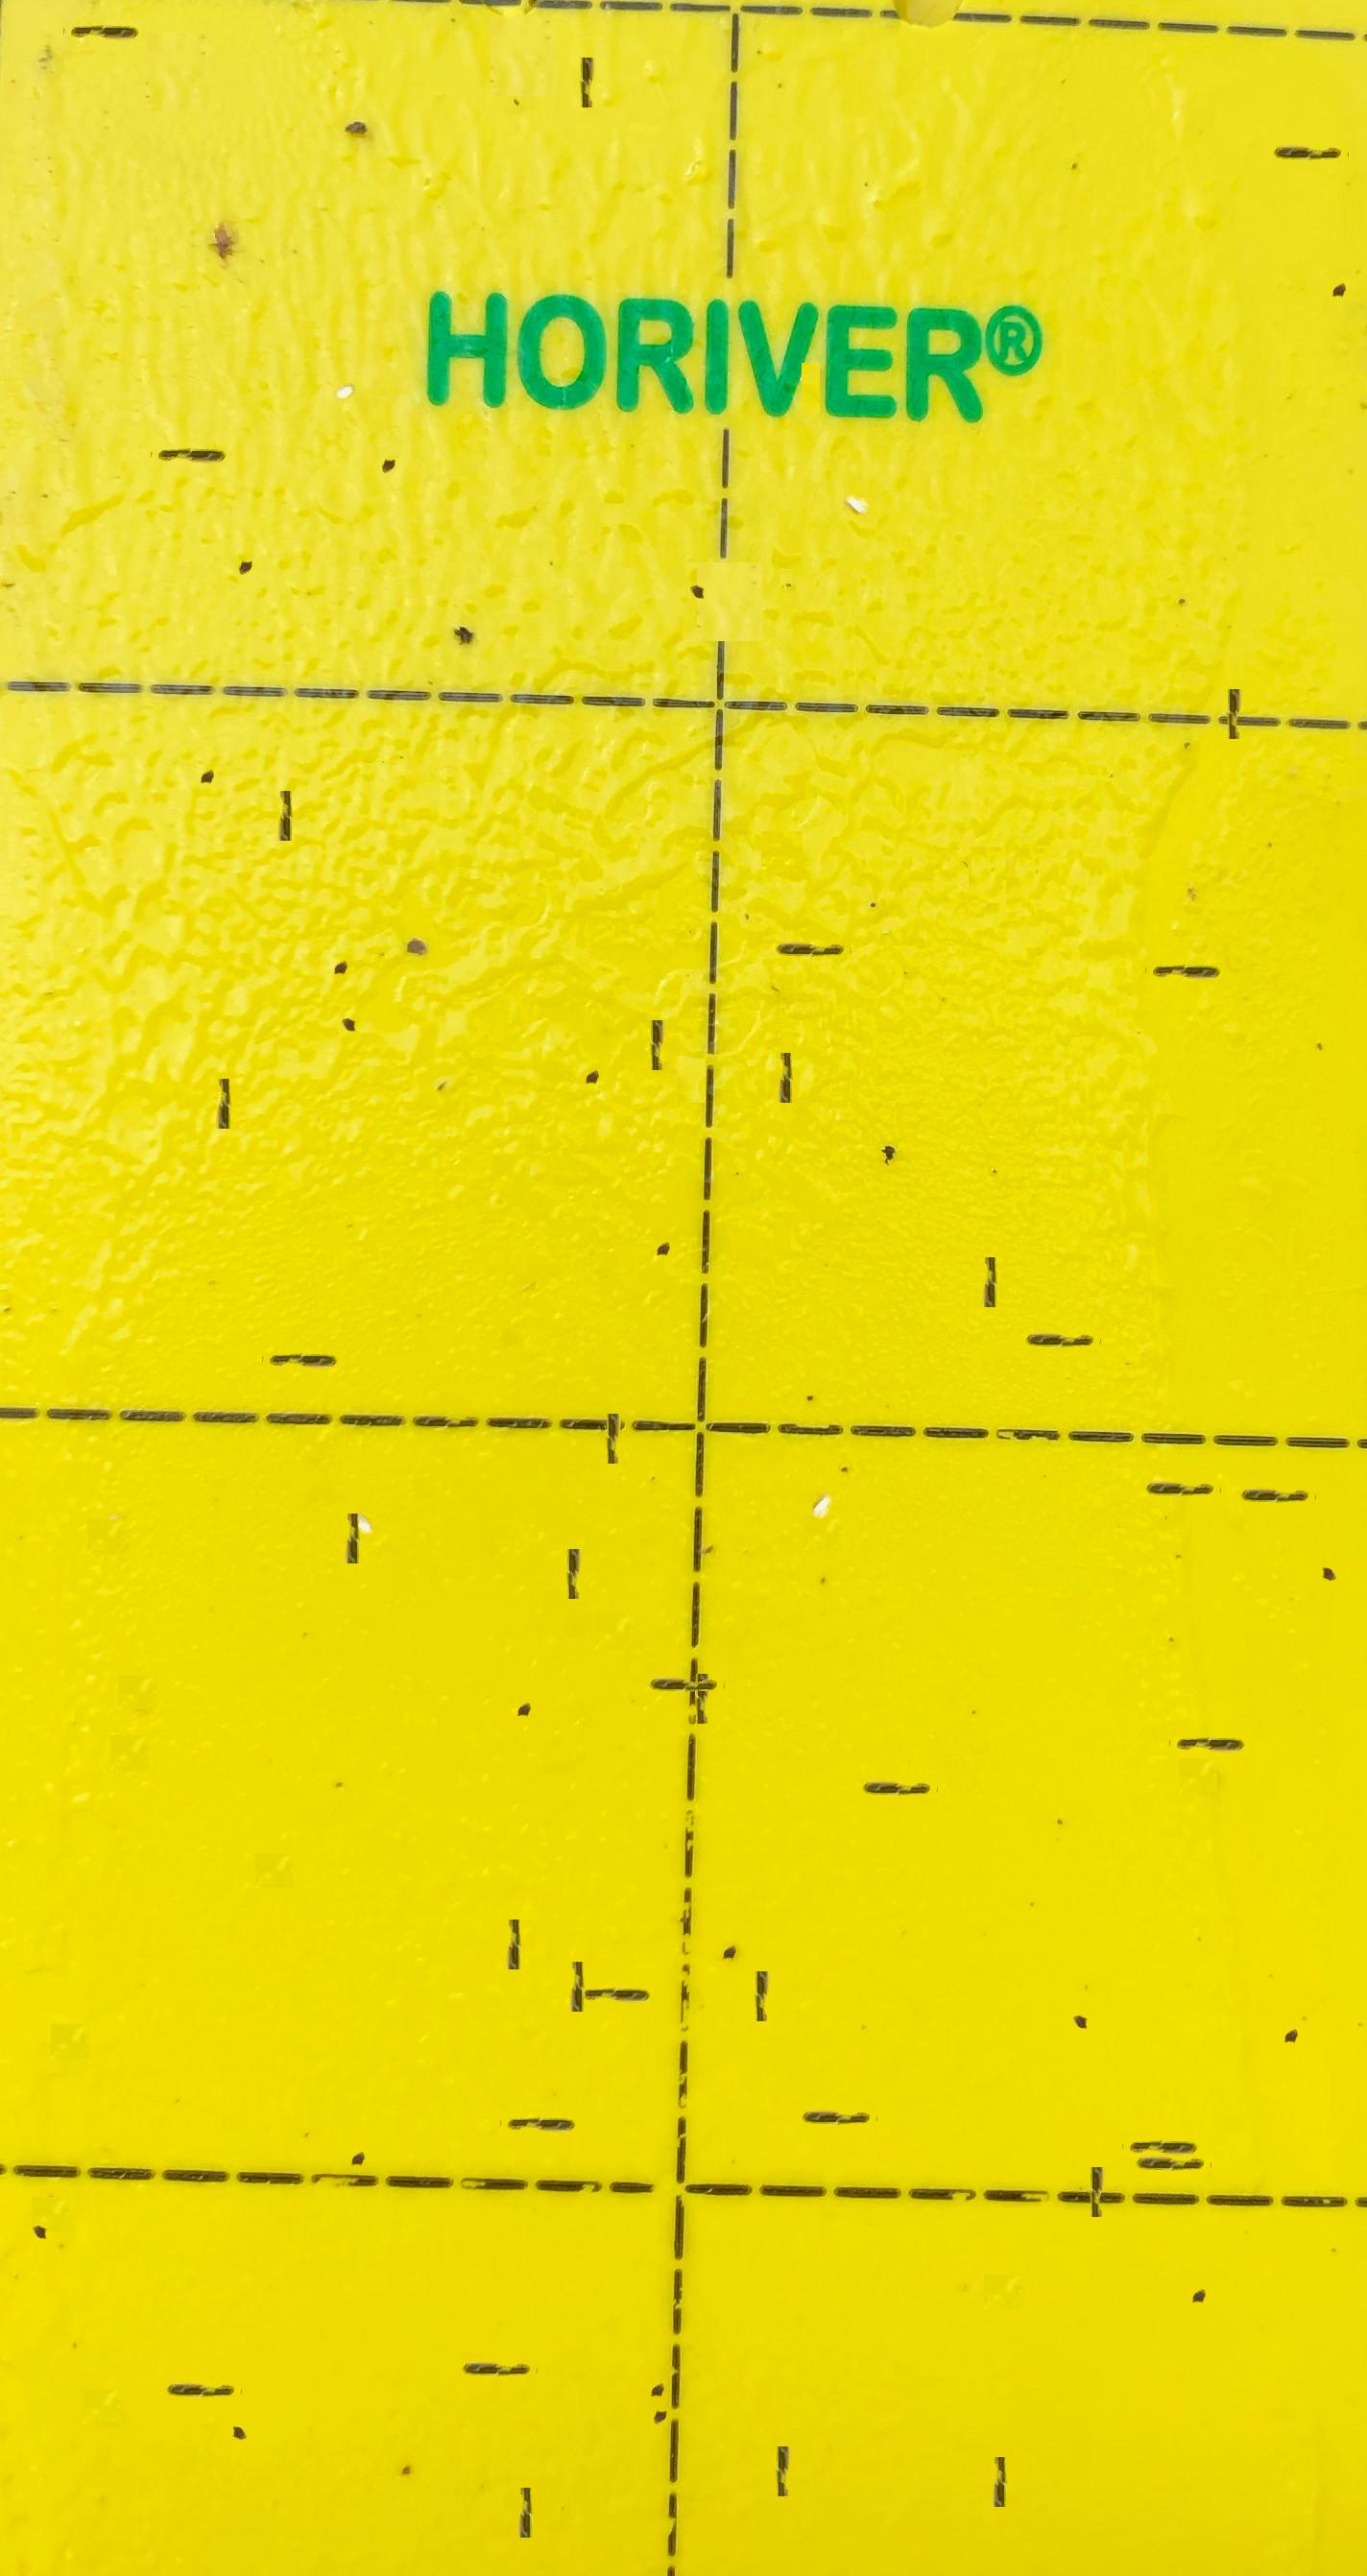white_fly: (322, 320, 365, 368), (803, 1441, 845, 1487), (341, 1458, 384, 1501), (839, 436, 880, 480)
